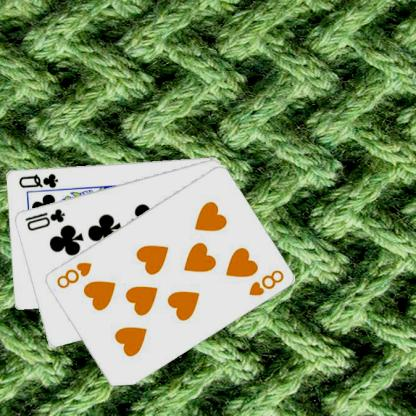10C: (23, 206, 68, 232)
8H: (248, 266, 287, 298), (55, 259, 94, 290)
QC: (18, 170, 61, 189)
